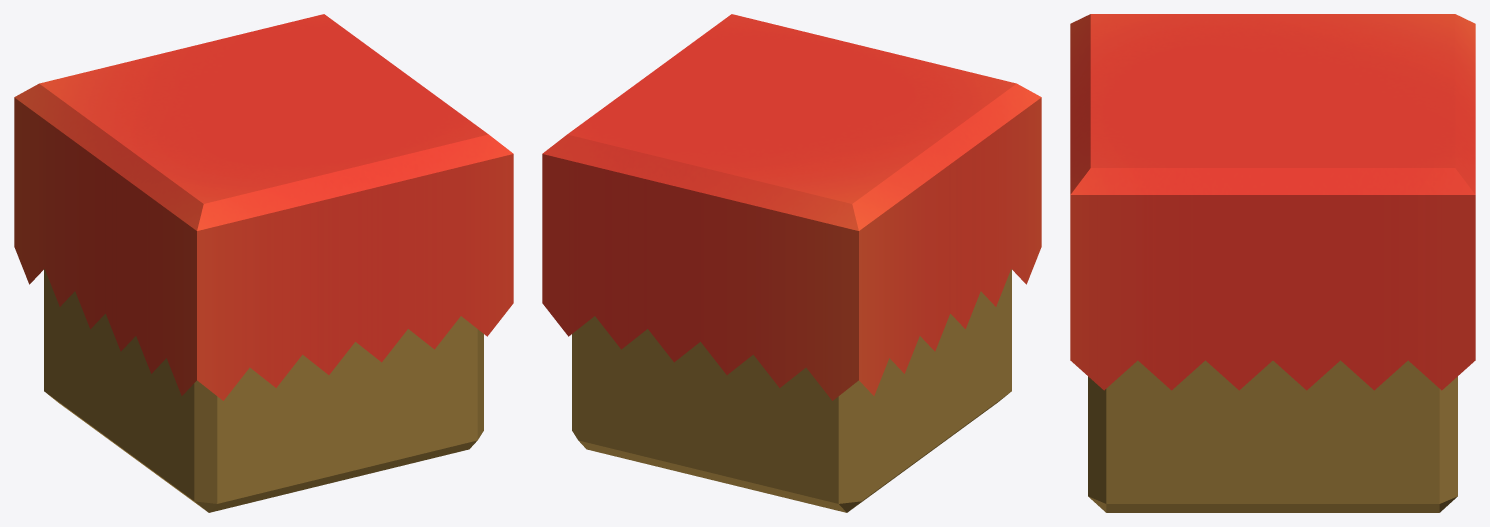
The model's file is GrassRadiant2.glb.
The picture shows the model from 3 angles, left to right: view 1: azimuth 30°, elevation 25°; view 2: azimuth 150°, elevation 25°; view 3: azimuth 270°, elevation 25°; orthographic projection. The views are drawn at different scales.
Visible parts, largest first — view 1: Cube.020; view 2: Cube.020; view 3: Cube.020.
Boxes of the visible parts, bbox=[...] form: Cube.020: bbox=[14, 14, 513, 512]; Cube.020: bbox=[542, 14, 1041, 512]; Cube.020: bbox=[1070, 14, 1475, 512].
Bounding box in the file's own units: 2.19 × 2.09 × 2.19.
2 materials, 2 textured.
